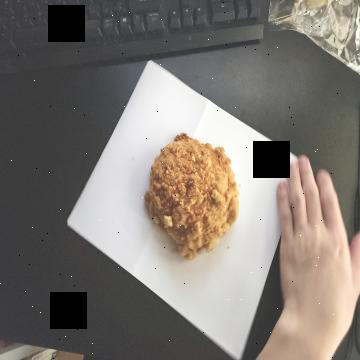soboru_bread: (142, 130, 244, 266)
